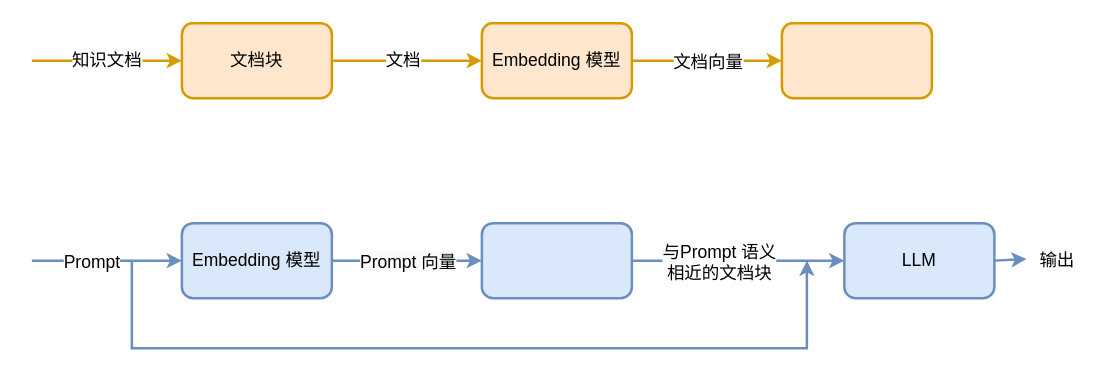
The diagram is 1103 pixels wide and 380 high, and some of its shapes have lost their labels. The centre of each missing label's shape, as x and y in pixels:
"向量化数据库" belongs at (x=856, y=60).
"向量数据库检索器" belongs at (x=556, y=260).
